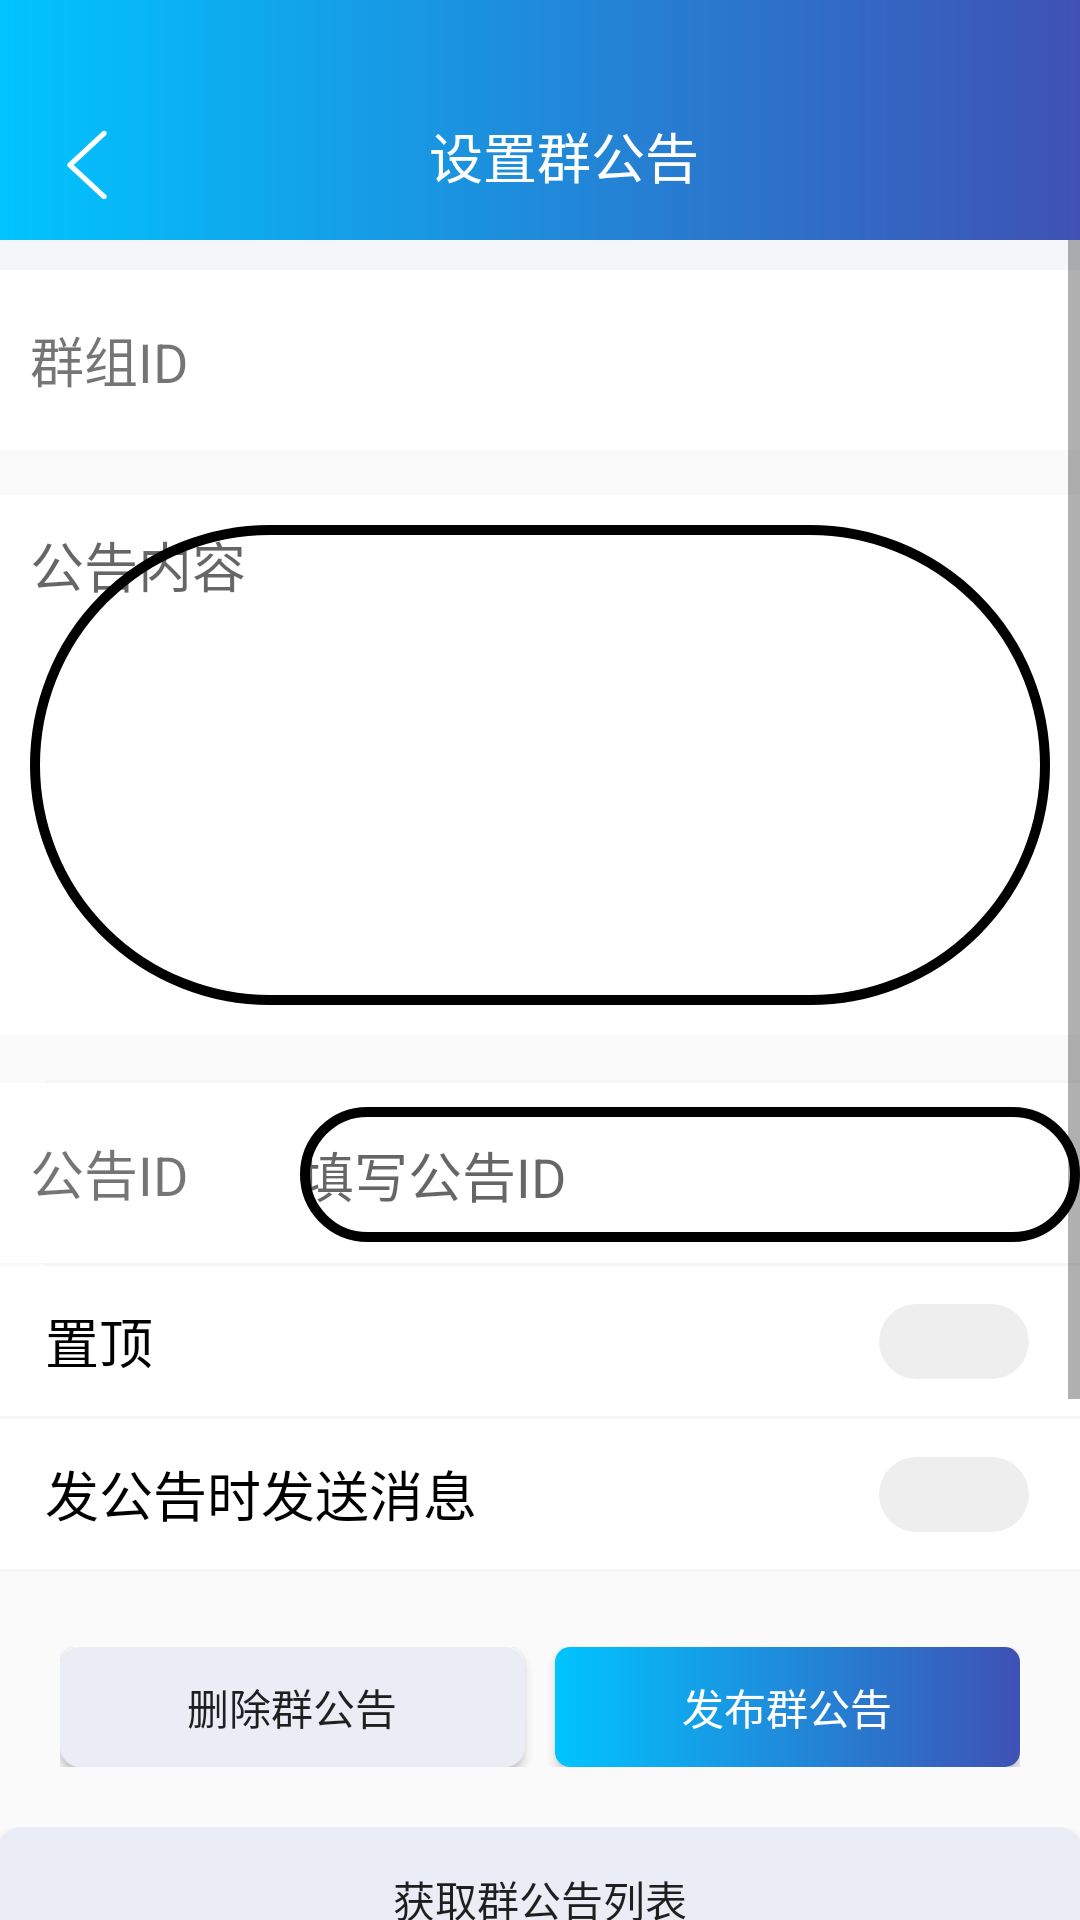

Locate icon controls on the screen. Image size 1080*1920, boxes as (x1, y1, x2, y2).
back: (67, 130, 107, 199)
